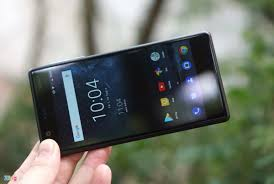nokia: (25, 28, 231, 165)
